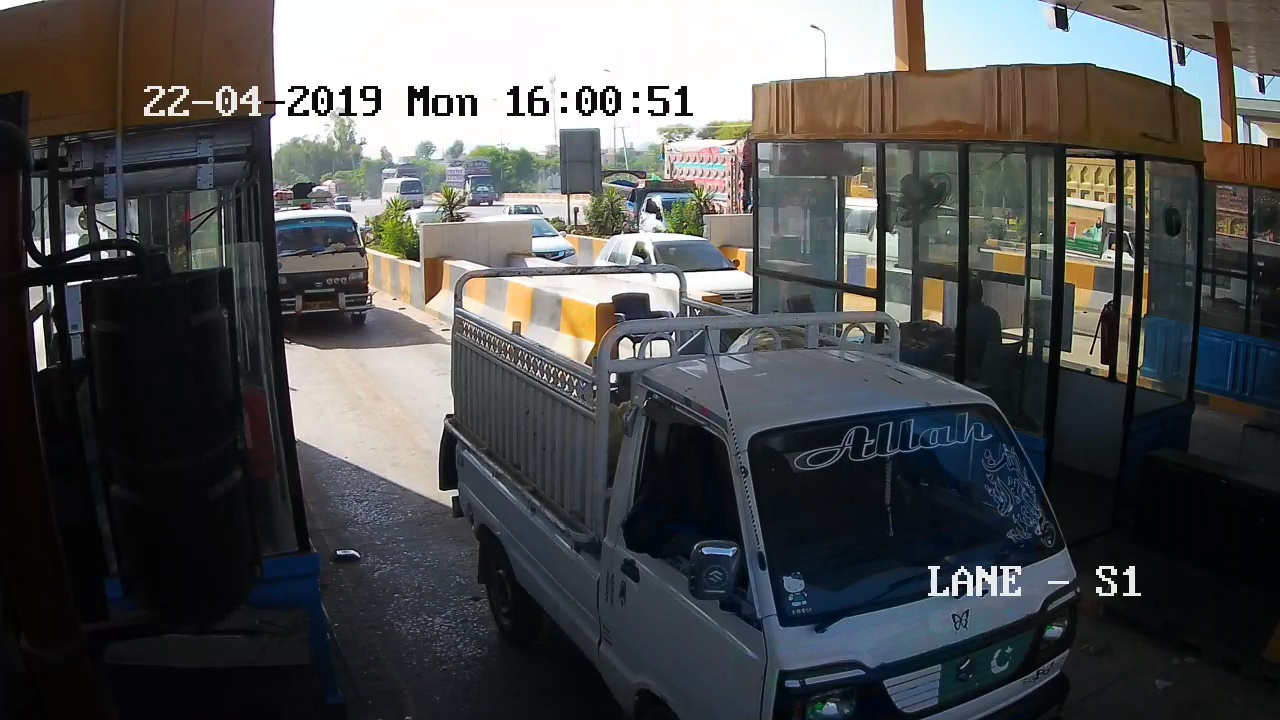car: (440, 252, 1132, 720), (271, 178, 384, 344)
